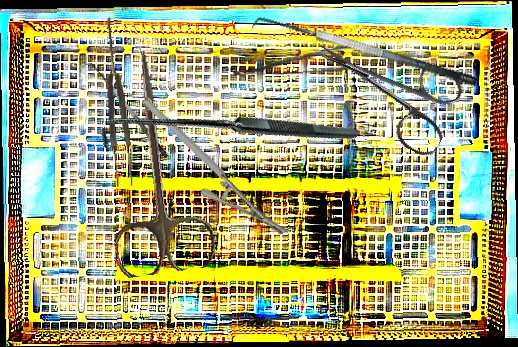Dressing Forceps: (230, 44, 357, 79)
Hook Surgical: (94, 1, 361, 269)
Iris Scissors: (89, 44, 218, 280), (296, 12, 472, 161)
Needle Holder: (141, 69, 290, 264)
Spatula Surgical: (249, 4, 479, 106), (82, 57, 169, 165)
Tissue Forceps: (99, 16, 135, 188)
